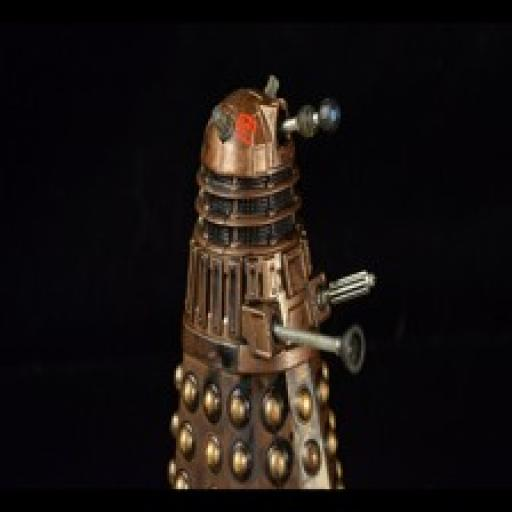dalek: (157, 72, 383, 488)
